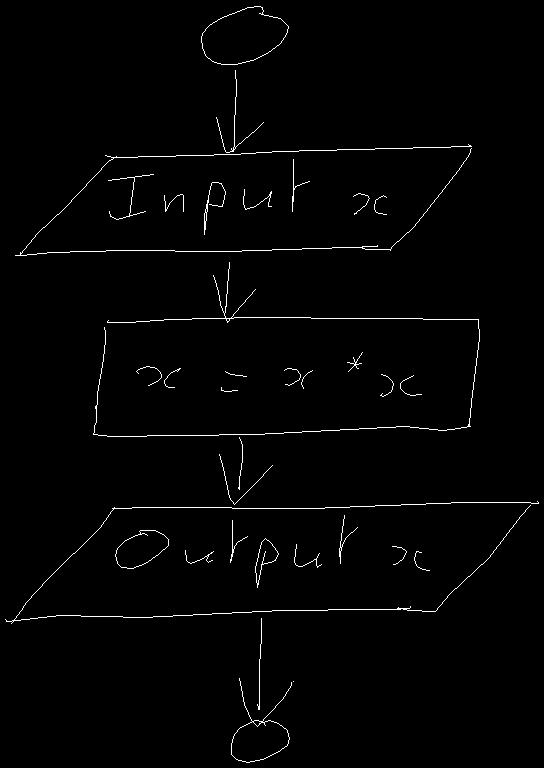arrow: (239, 618, 293, 726), (216, 70, 263, 152), (219, 437, 272, 504), (213, 262, 255, 322)
connection: (201, 6, 288, 64), (231, 720, 289, 762)
data: (5, 501, 538, 623), (15, 144, 471, 255)
process: (93, 317, 479, 436)
text: (115, 515, 429, 587), (108, 159, 386, 234), (136, 352, 421, 396)
